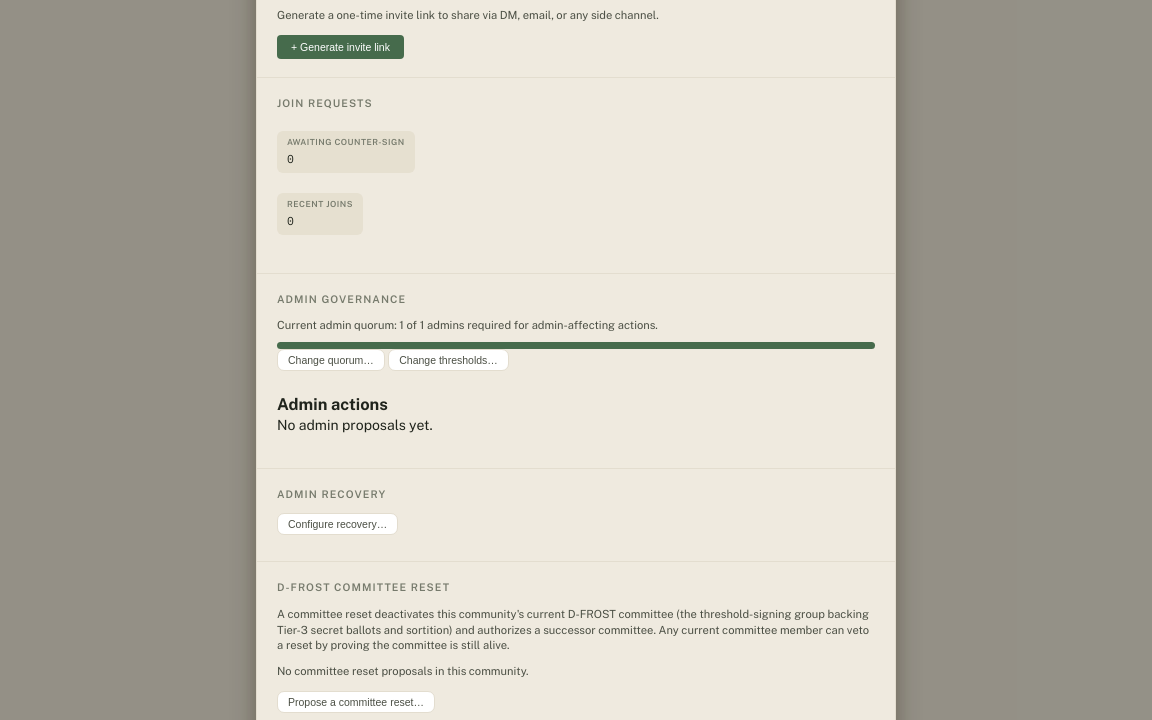
CommunitySettingsPanel › clicking Change thresholds… opens ChangeThresholdsDialog with current thresholds
(page scrolled)
Click the button "Change thresholds…": coordinates (449, 360) [388,349,509,371]
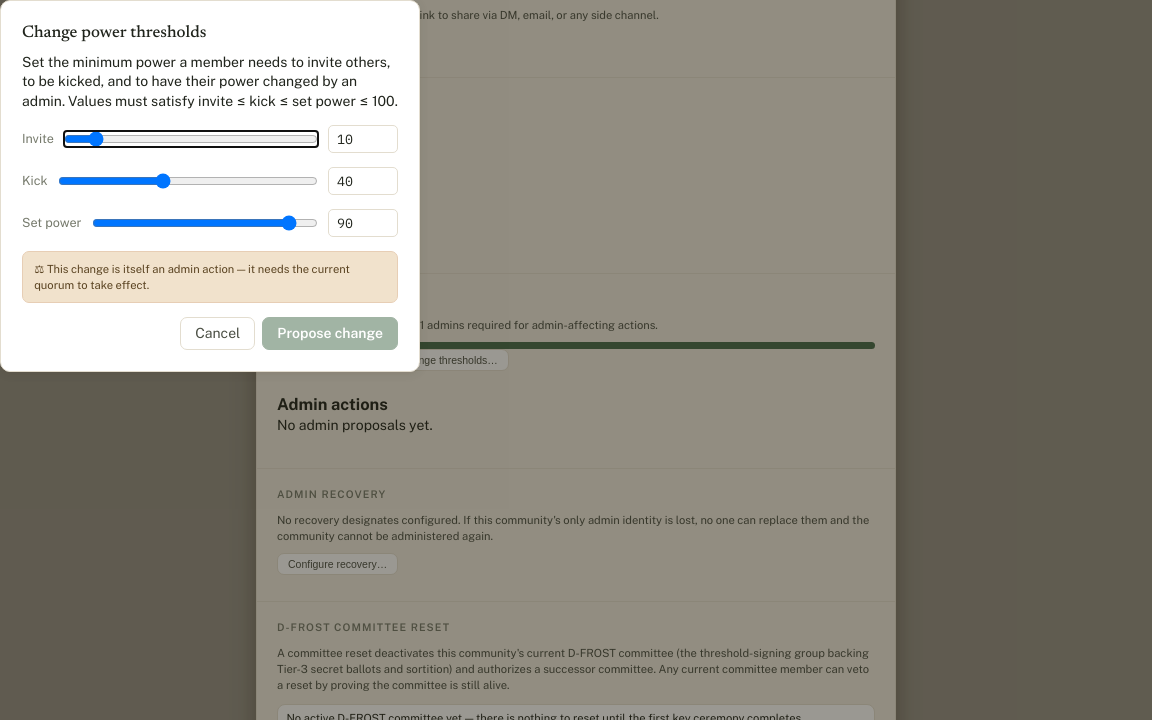
expect the dialog labelled "Change power thresholds" is shown: met, box [0,0,420,372]
expect the number field named "Invite threshold number" holds "10": met, box [328,125,398,153]
expect the number field named "Kick threshold number" holds "40": met, box [328,167,398,195]
